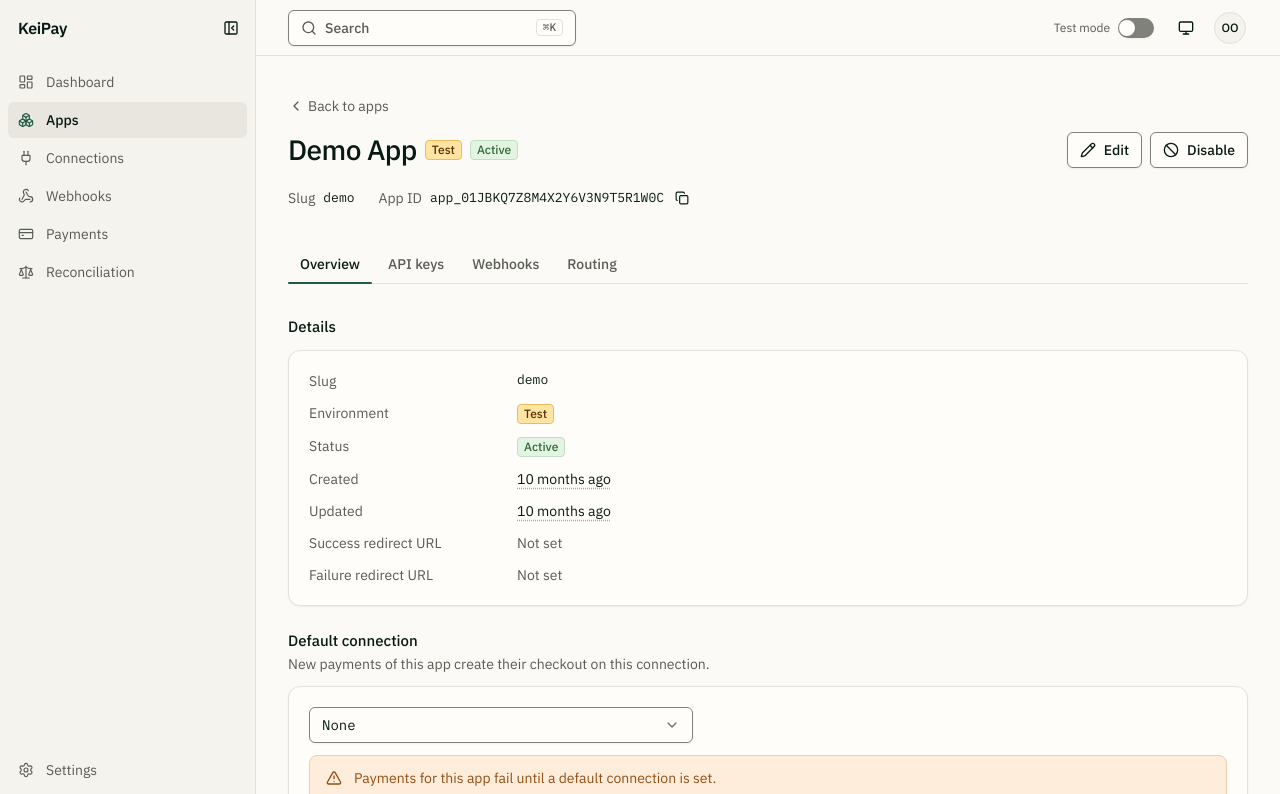
Test case: Default connection › shows the status field error
Click the dropdown named "Default connection" at (339, 725), box [309,707,693,743]
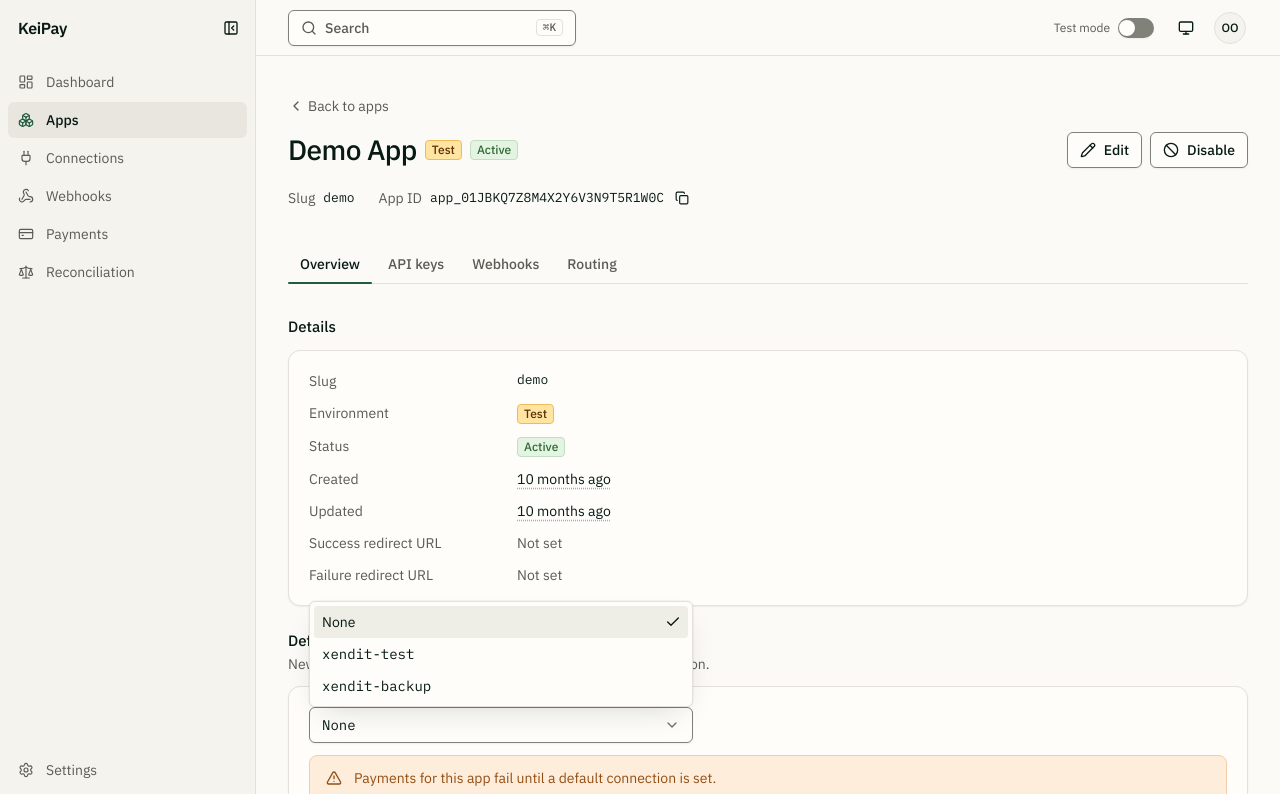
Click the option "xendit-backup" at (377, 686), box [322,677,431,695]
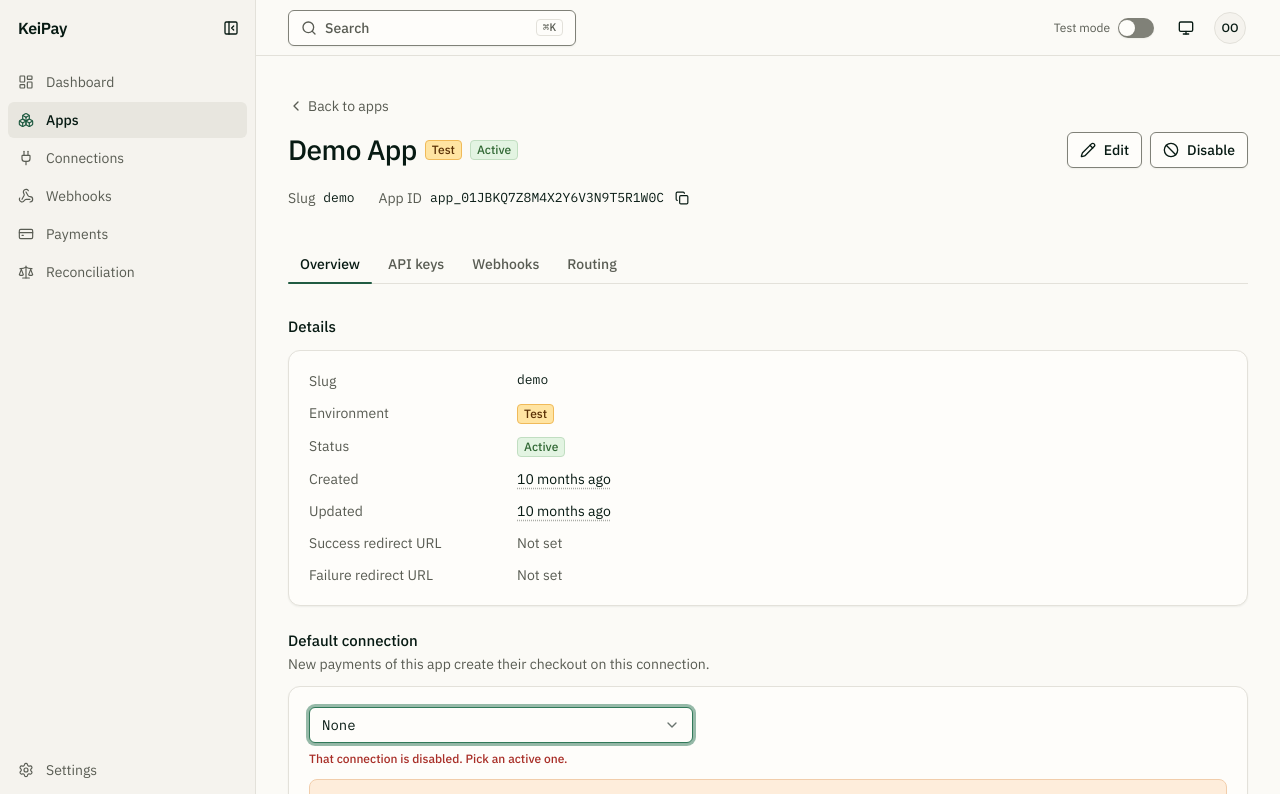
Now the text "That connection is disabled. Pick an active one." is shown, box [309,751,568,766]
